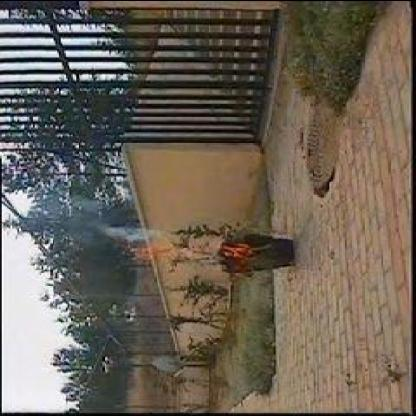-: (103, 221, 160, 238)
foggia-v2-map80-epoch100 - v1 4323: (220, 238, 248, 259)
